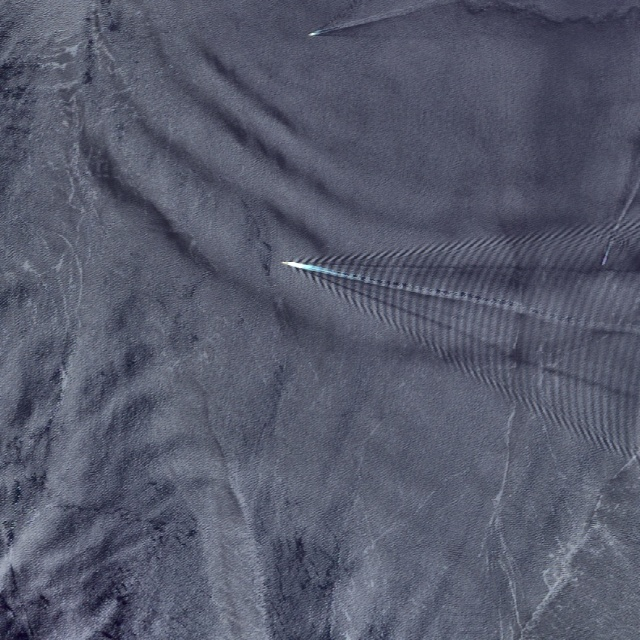wake: (261, 190, 625, 400)
